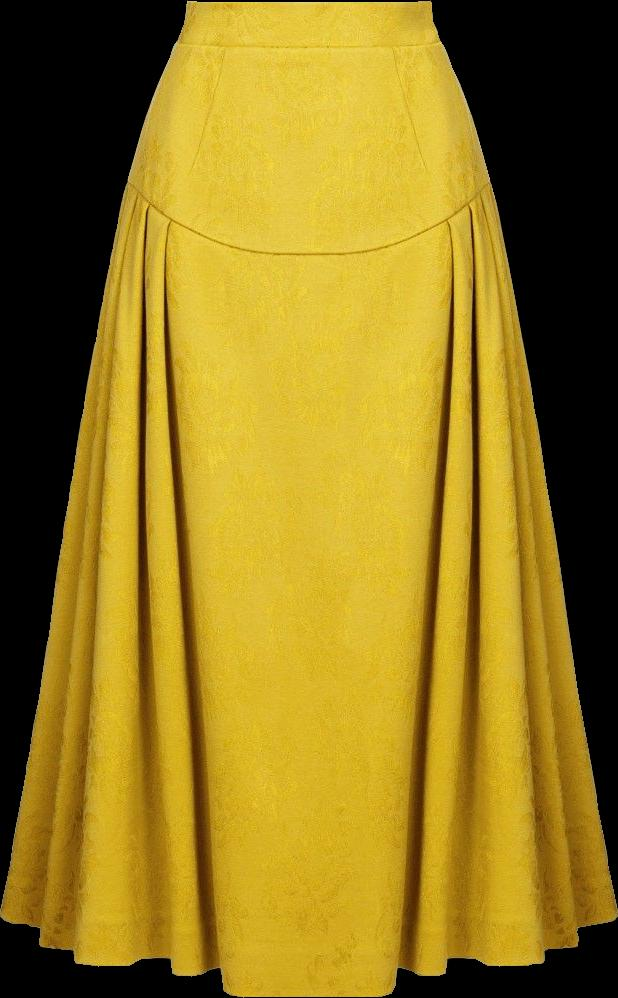Hemline: (0, 909, 617, 997)
Waistline: (123, 177, 497, 262), (171, 37, 444, 57), (183, 0, 434, 13)
